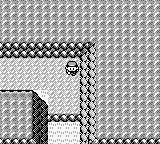main: (65, 62, 78, 75)
no-caminable: (0, 0, 159, 143), (0, 91, 48, 143)
salto: (49, 115, 79, 121)
